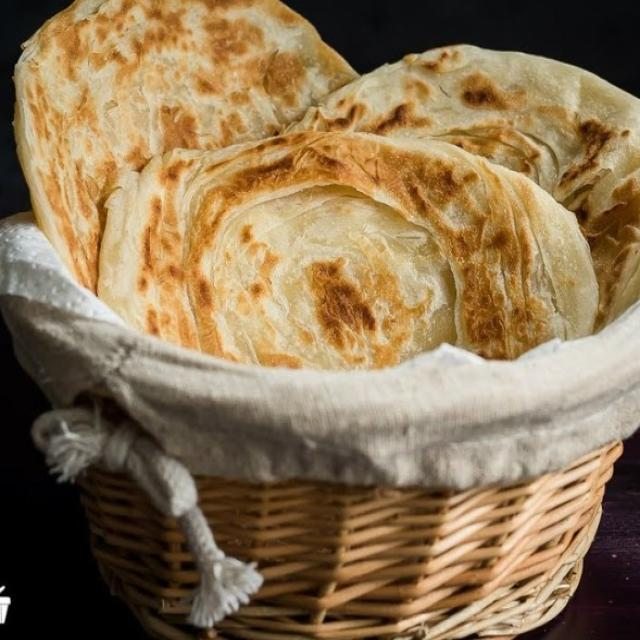PAROTTA: (10, 0, 639, 375)
